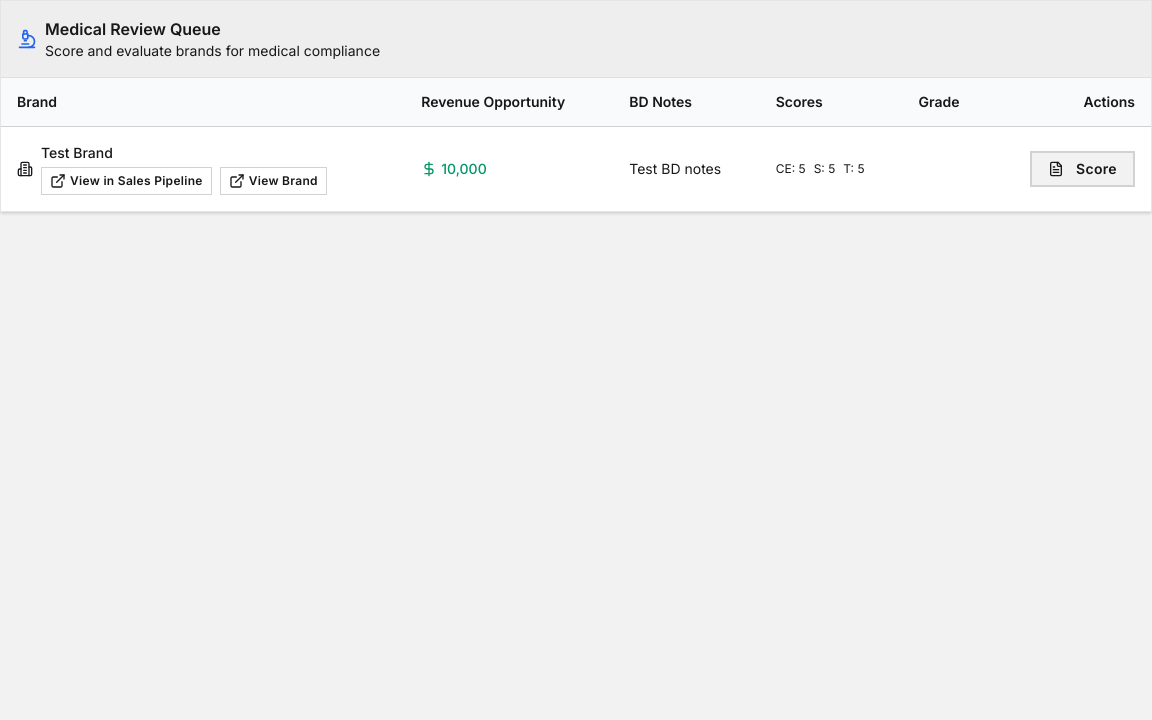
it: Medical Standards Engine › Review Details › BUG: Should have Safety Concerns field
The image size is (1152, 720).
Check: the text "Test Brand" is shown, box [41, 144, 113, 160]
# Click the "Score" button to open the dialog
Step 1. Click the button "Score" → x=1082, y=168, box [1030, 150, 1135, 186]
(page scrolled)
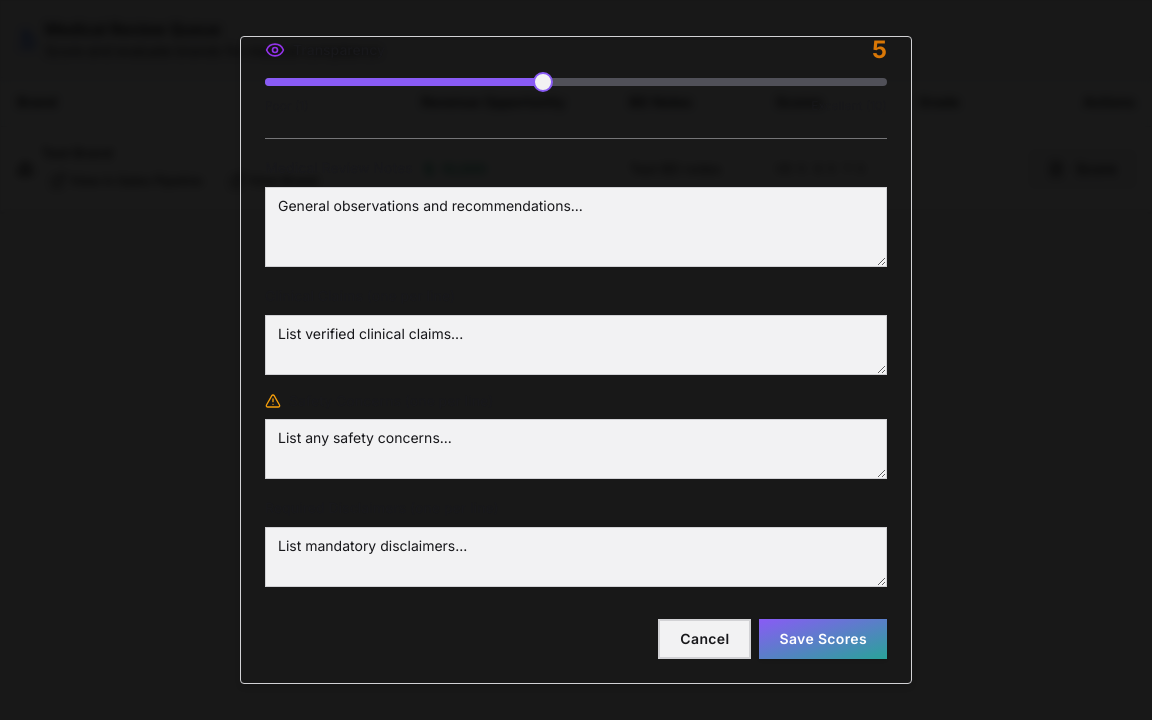
Check: the text "Safety Concerns (one per line)" is shown, box [265, 392, 493, 409]
